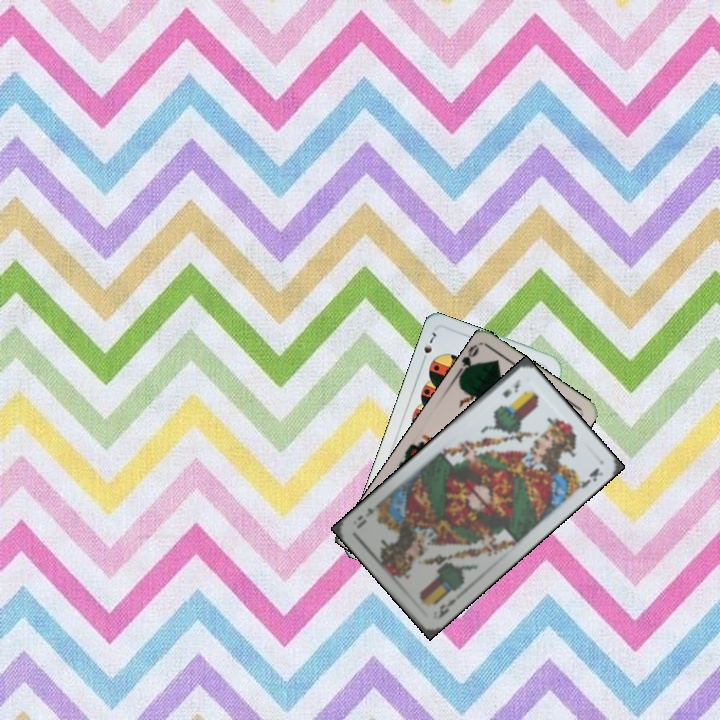EK: (498, 375, 524, 400), (434, 594, 458, 621)
GO: (453, 341, 482, 378)
S7: (418, 328, 439, 366)
